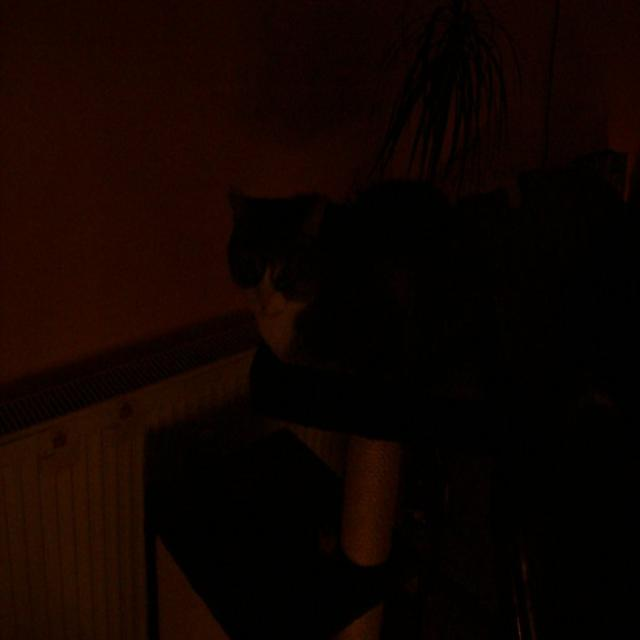Cat: (222, 167, 501, 430)
